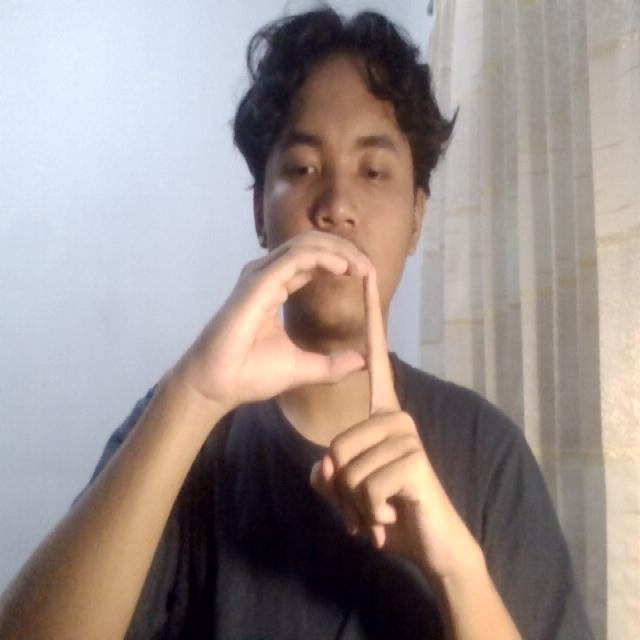D: (206, 221, 462, 575)
